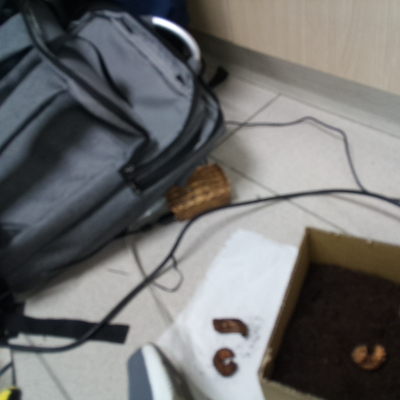eggs: (347, 340, 391, 375)
